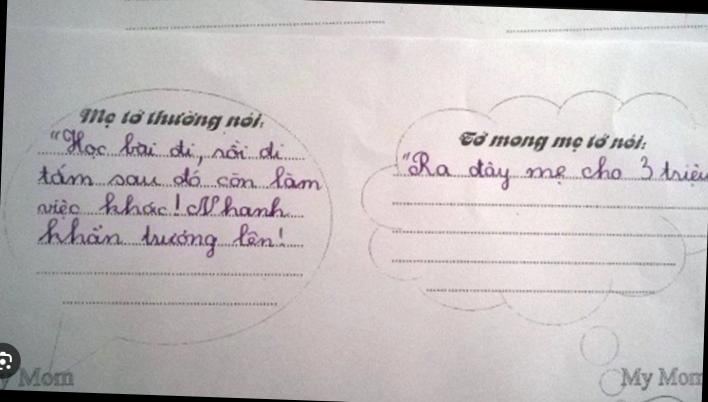text: (399, 143, 708, 199), (36, 214, 286, 262), (35, 156, 324, 197), (36, 187, 292, 229), (46, 127, 286, 170), (78, 103, 266, 136), (456, 125, 649, 157), (618, 362, 702, 394), (14, 364, 76, 390)
